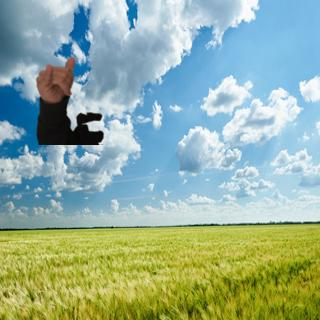HAVE: (33, 52, 79, 106)
